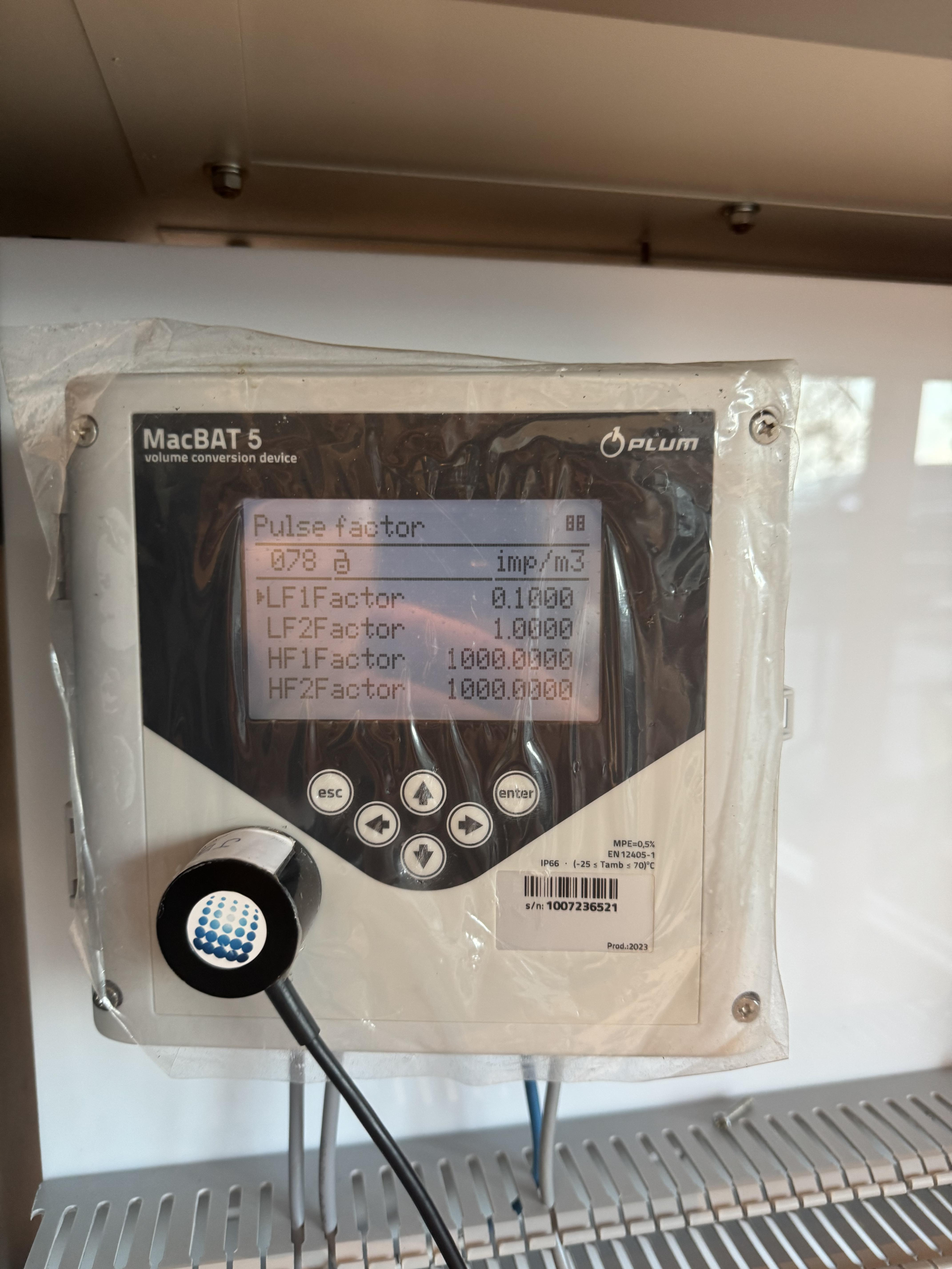digital_screen: (242, 499, 603, 721)
